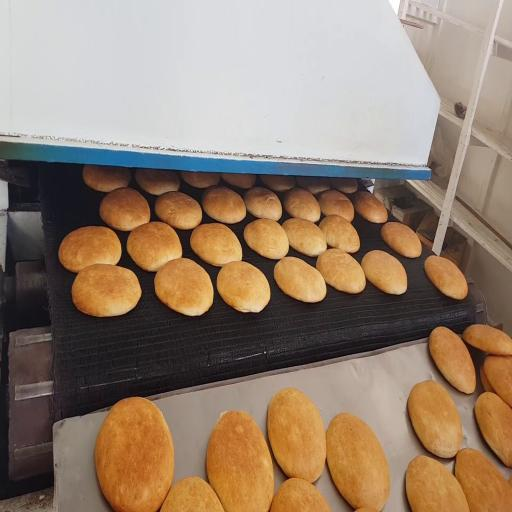bread: (95, 398, 174, 511), (207, 411, 274, 511), (327, 413, 390, 511), (268, 388, 326, 483), (408, 381, 462, 457), (72, 264, 141, 317), (455, 448, 511, 511), (406, 456, 469, 511), (155, 258, 213, 316), (429, 327, 476, 393), (59, 227, 121, 273), (127, 222, 182, 271), (217, 262, 270, 312), (475, 393, 511, 466), (274, 257, 326, 302), (190, 223, 242, 266), (316, 249, 365, 293), (100, 188, 150, 231), (160, 477, 223, 511), (361, 250, 407, 294), (271, 478, 330, 511), (425, 255, 467, 300), (244, 219, 289, 259), (155, 192, 202, 229), (202, 186, 246, 223), (283, 219, 326, 256), (463, 324, 511, 356), (319, 215, 359, 253), (381, 222, 421, 257), (484, 356, 511, 406), (83, 165, 131, 192), (244, 187, 282, 220), (284, 189, 320, 222), (135, 169, 179, 195), (317, 191, 354, 221), (354, 192, 387, 223), (180, 172, 220, 188), (296, 176, 329, 194), (260, 175, 295, 191), (221, 174, 255, 188), (330, 178, 357, 193), (480, 365, 495, 392), (356, 507, 377, 511), (509, 476, 511, 486)
